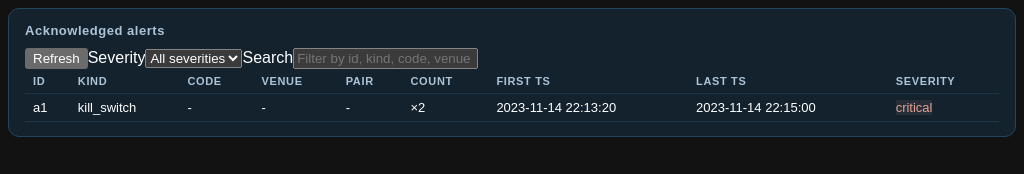
AcknowledgedAlertsList row detail › expands a null-safe detail line on row click and collapses on second click
This screenshot has width=1024, height=174.
What coordinates should you click on to do the following:
click the button with test id "ops-acknowledged-alert-a1"
I would click on:
 (512, 108)
Its box is [25,94,999,122].
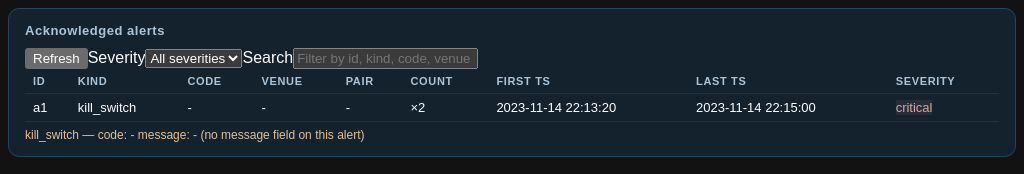
Now the text with test id "ops-ack-detail-a1" shows "kill_switch", box [25,128,79,142]
Now the text with test id "ops-ack-detail-a1" shows "code: -", box [25,128,364,142]
What coordinates should you click on to do the following:
click the button with test id "ops-acknowledged-alert-a1"
I would click on:
 (512, 108)
Its box is [25,94,999,122].
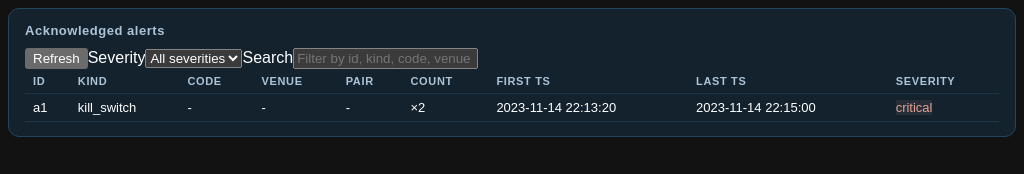
Now the text with test id "ops-ack-detail-a1" is gone
